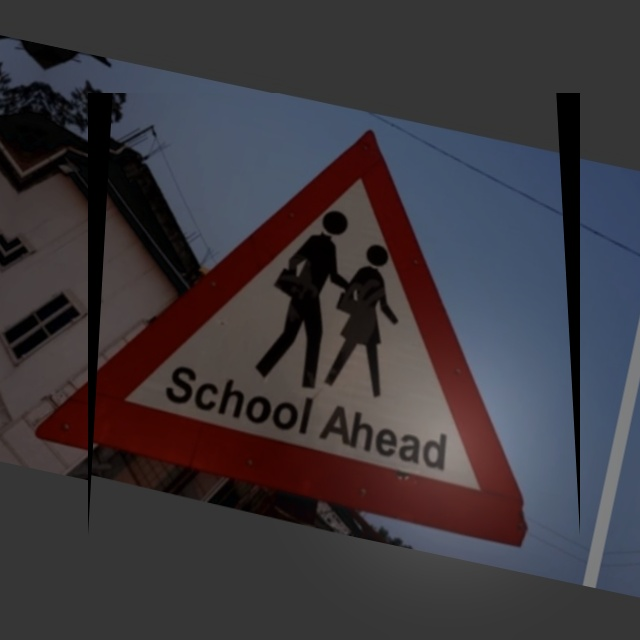School_Ahead: (88, 93, 580, 536)
